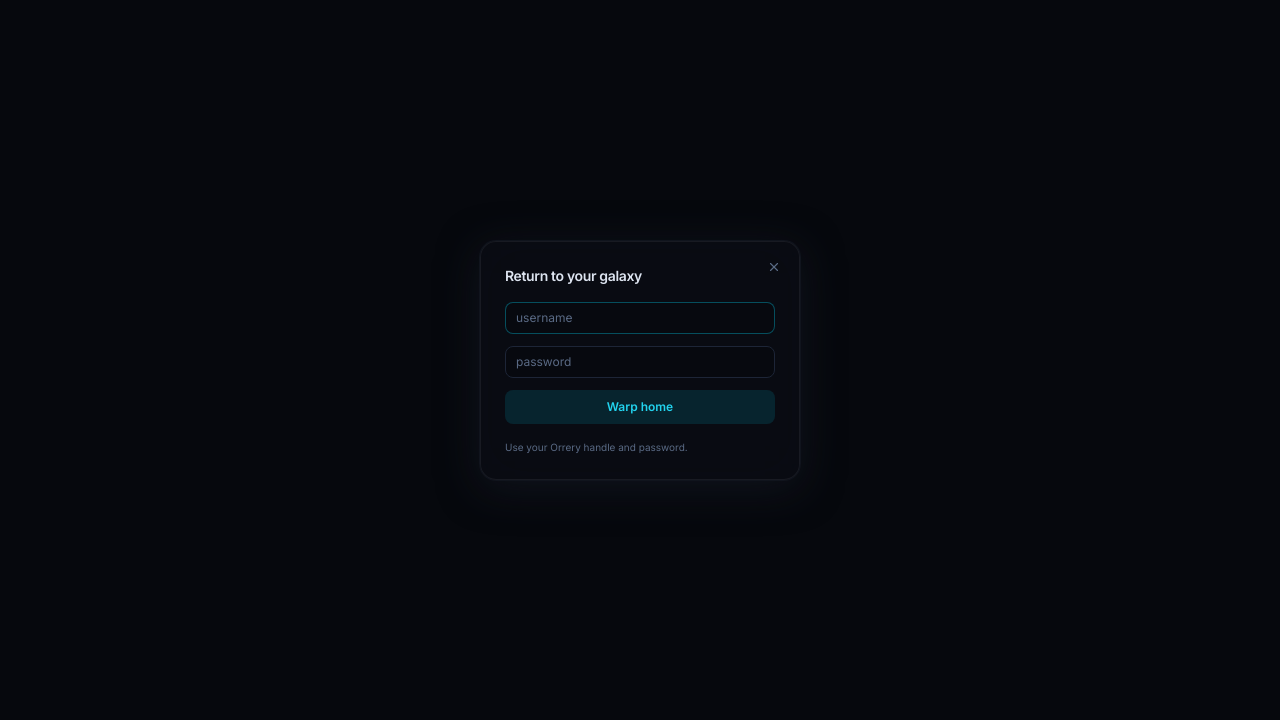
Gate › renders backend auth errors
Type "nova" into the field with placeholder "username" at [640, 318], box [516,308,764,326]
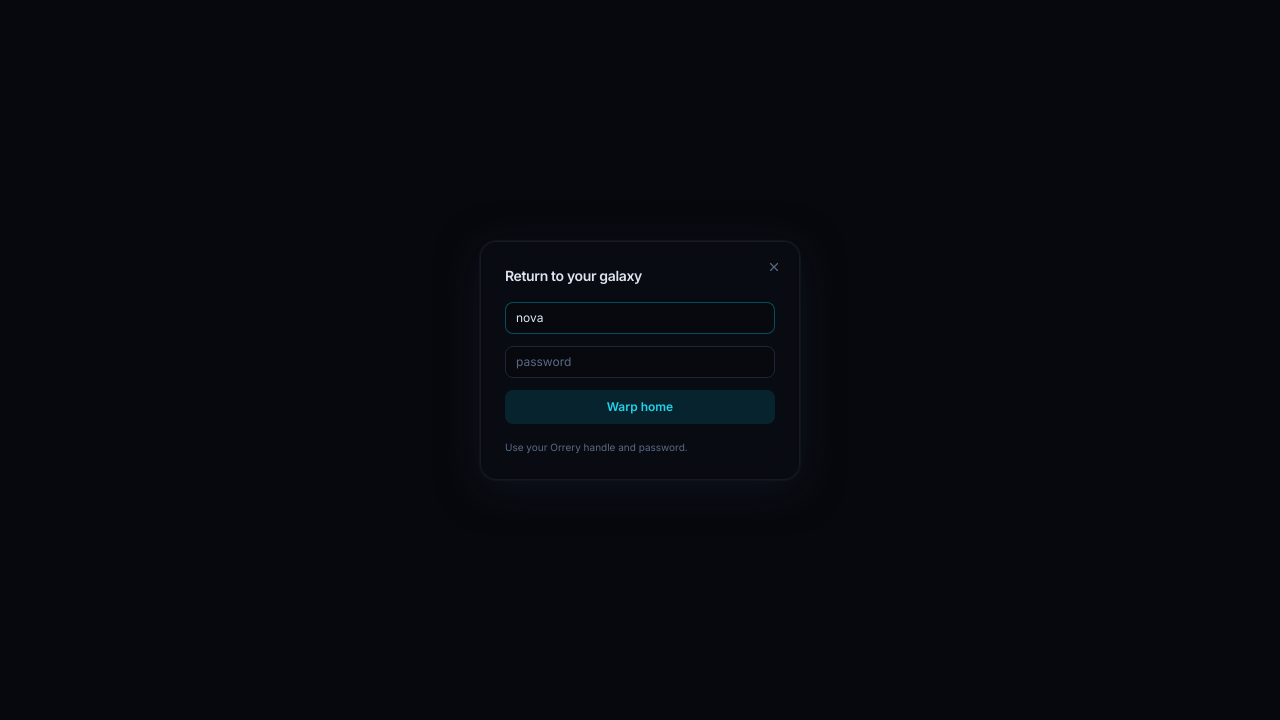
Type "badpassword" into the password field with placeholder "password" at [640, 362], box [516,352,764,370]
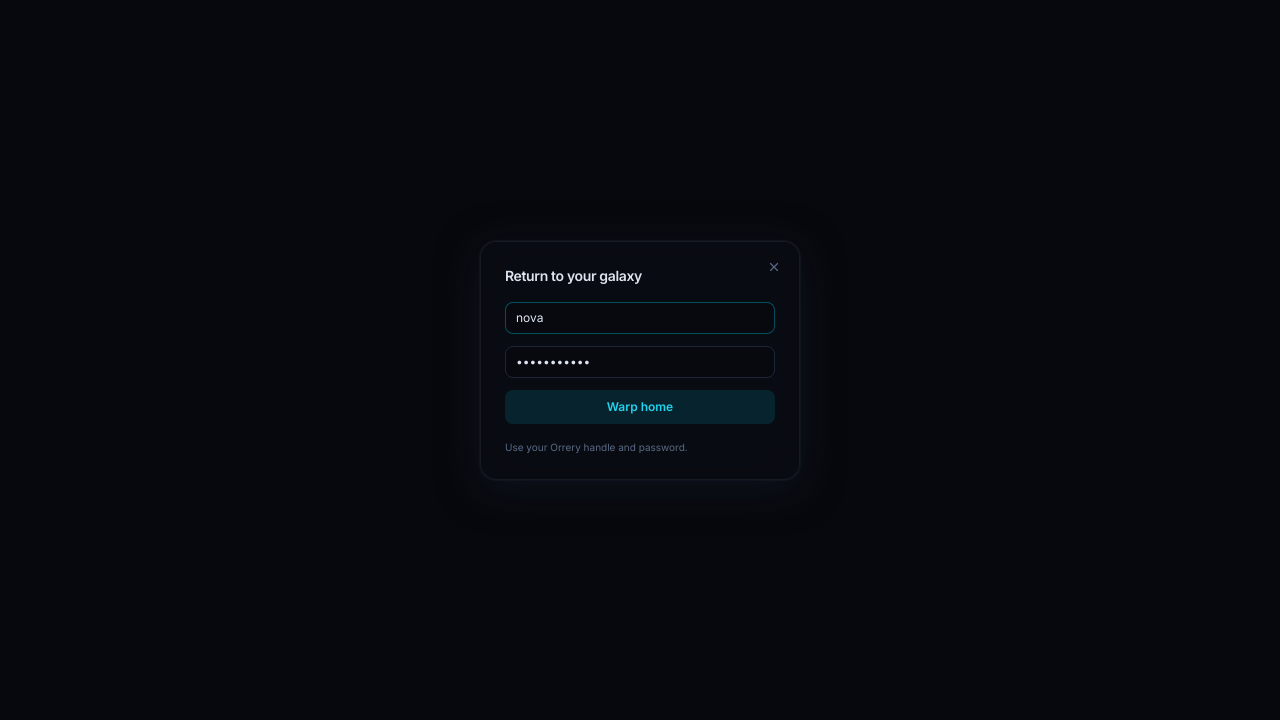
Click the button "Warp home" at [640, 406], box [505,390,775,424]
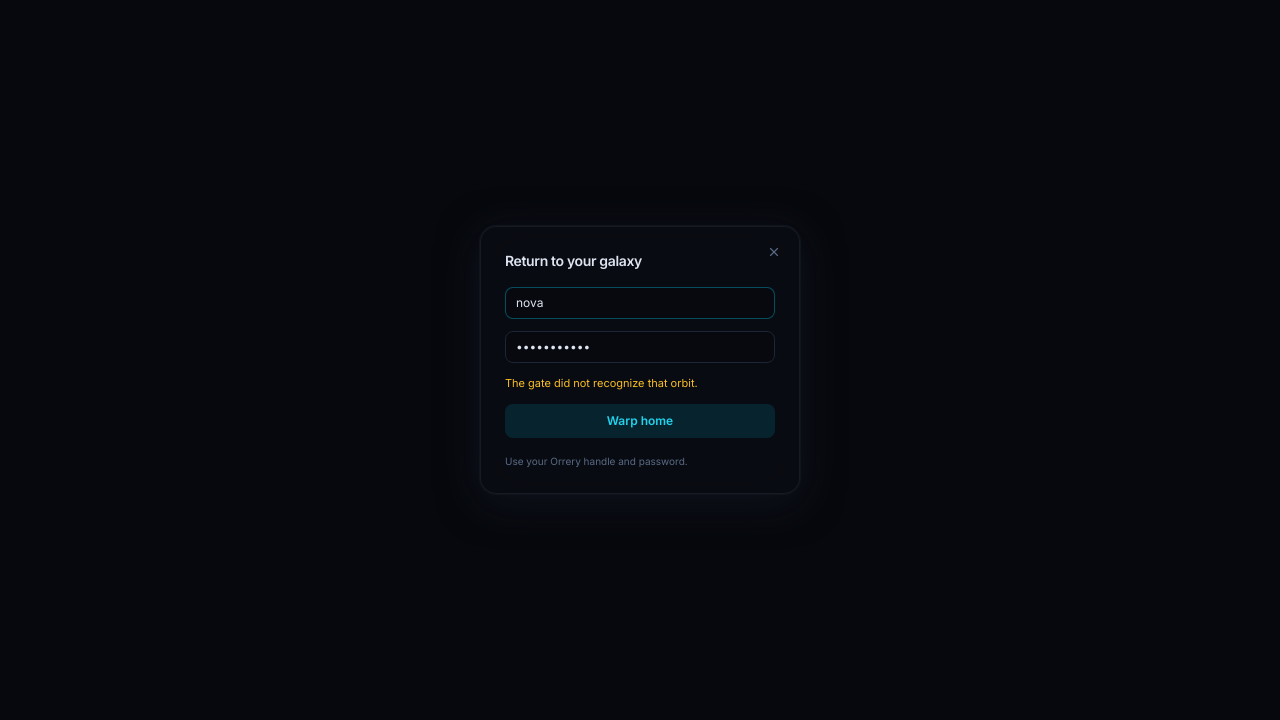
Expected: the text "The gate did not recognize that orbit." is shown, [505,376,698,390]
